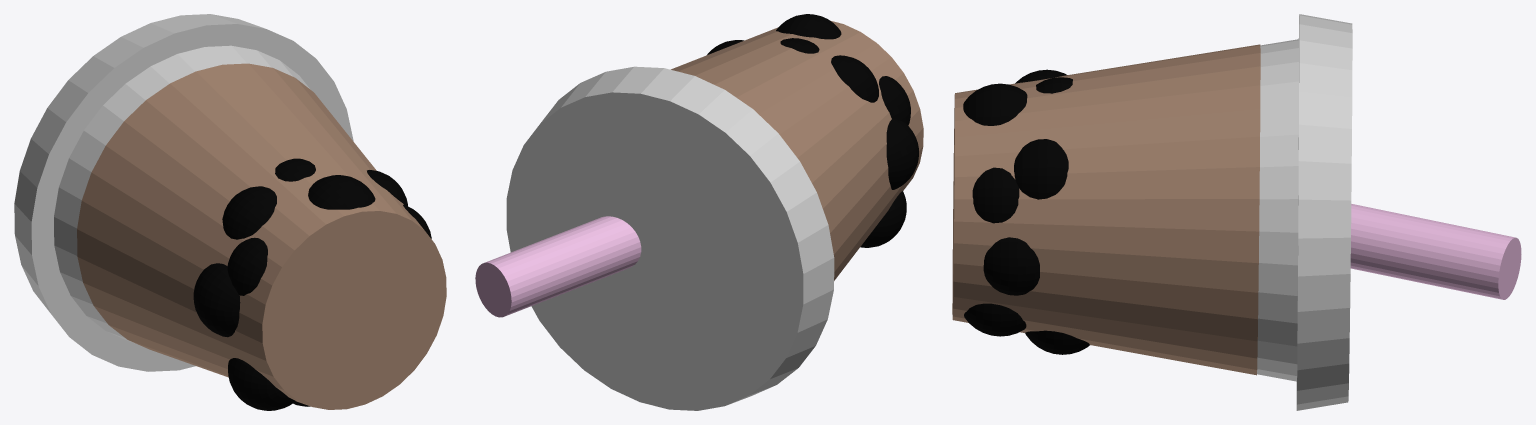
Rendered from food_3_boba.fbx.
3 views of the same model, side by side, from view 1: azimuth 30°, elevation 25°; view 2: azimuth 150°, elevation 25°; view 3: azimuth 270°, elevation 25° (orthographic). The views are drawn at different scales.
Visible parts, largest first — view 1: food_boba; view 2: food_boba; view 3: food_boba.
Part boxes in pixels (box(x1,y1,x2,y2)): food_boba: box(14, 14, 446, 410); food_boba: box(475, 14, 923, 410); food_boba: box(952, 14, 1521, 410).
Size of the model in its own units: 50.38 by 50.38 by 72.33.
